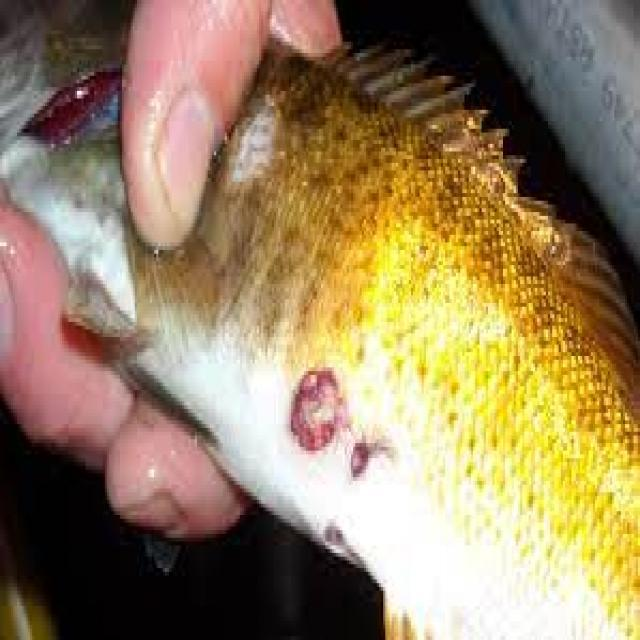EUS Disease: (1, 0, 640, 640), (224, 297, 441, 556)
